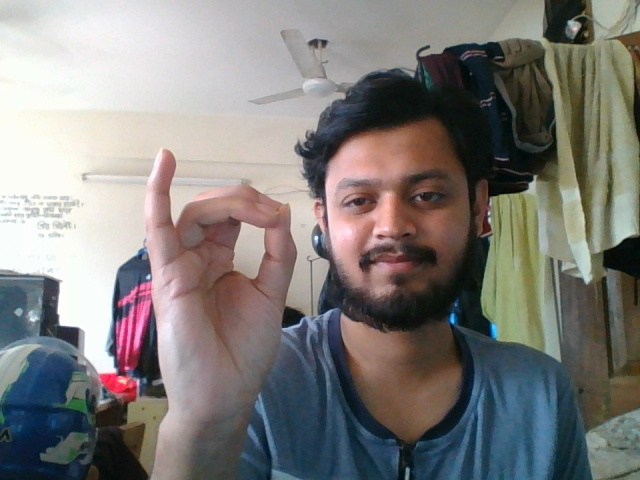ou: (133, 142, 302, 455)
